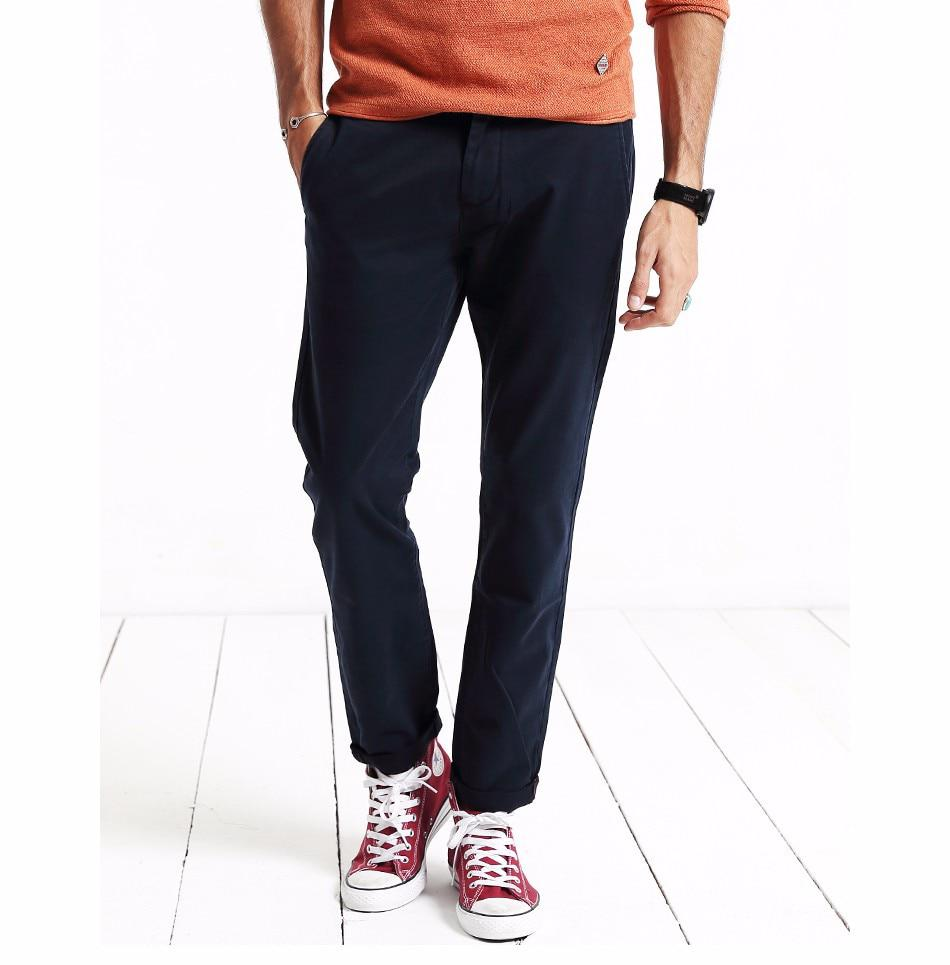pants: (292, 114, 634, 809)
